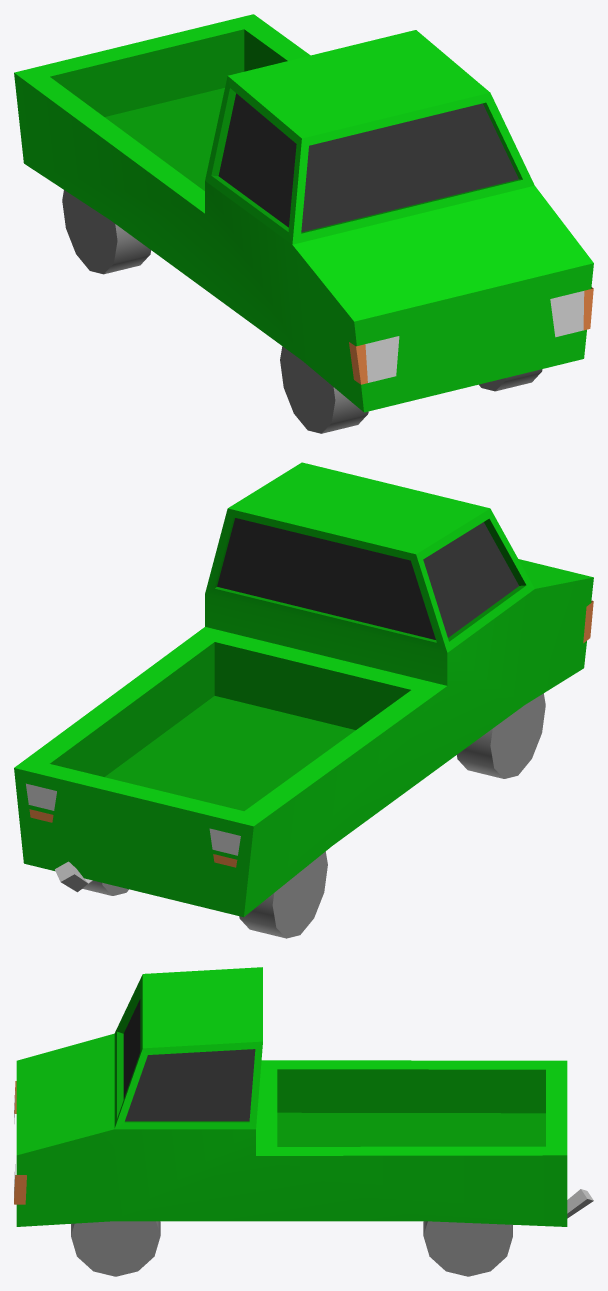
File: pickup_02.fbx
The picture shows the model from 3 angles, top to bottom: view 1: azimuth 30°, elevation 25°; view 2: azimuth 150°, elevation 25°; view 3: azimuth 270°, elevation 25°; orthographic projection. The views are drawn at different scales.
Visible parts, largest first — view 1: pickup_02; view 2: pickup_02; view 3: pickup_02.
Boxes of the visible parts, x1,y1,x2,y2 form: pickup_02: [14, 14, 593, 433]; pickup_02: [14, 462, 593, 938]; pickup_02: [14, 967, 593, 1276].
Bounding box in the file's own units: 1.6 × 1.8 × 4.1.
